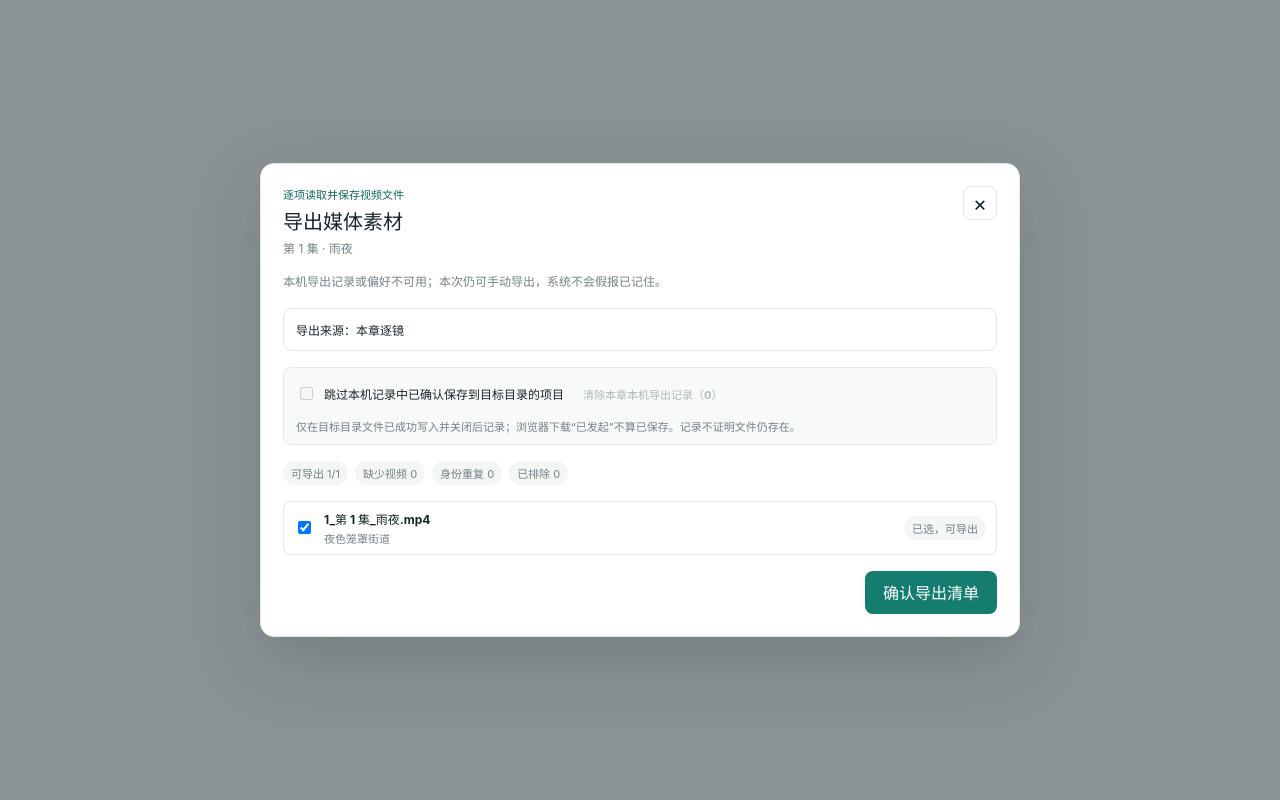
Test: MediaExportDialog local export records › keeps a real export available when local storage reads fail
This screenshot has width=1280, height=800.
Expected: the text "本机导出记录或偏好不可用；本次仍可手动导出，系统不会假报已记住。" is shown, [283,274,667,289]
Click the button "确认导出清单" at (931, 592), box [865,571,997,614]
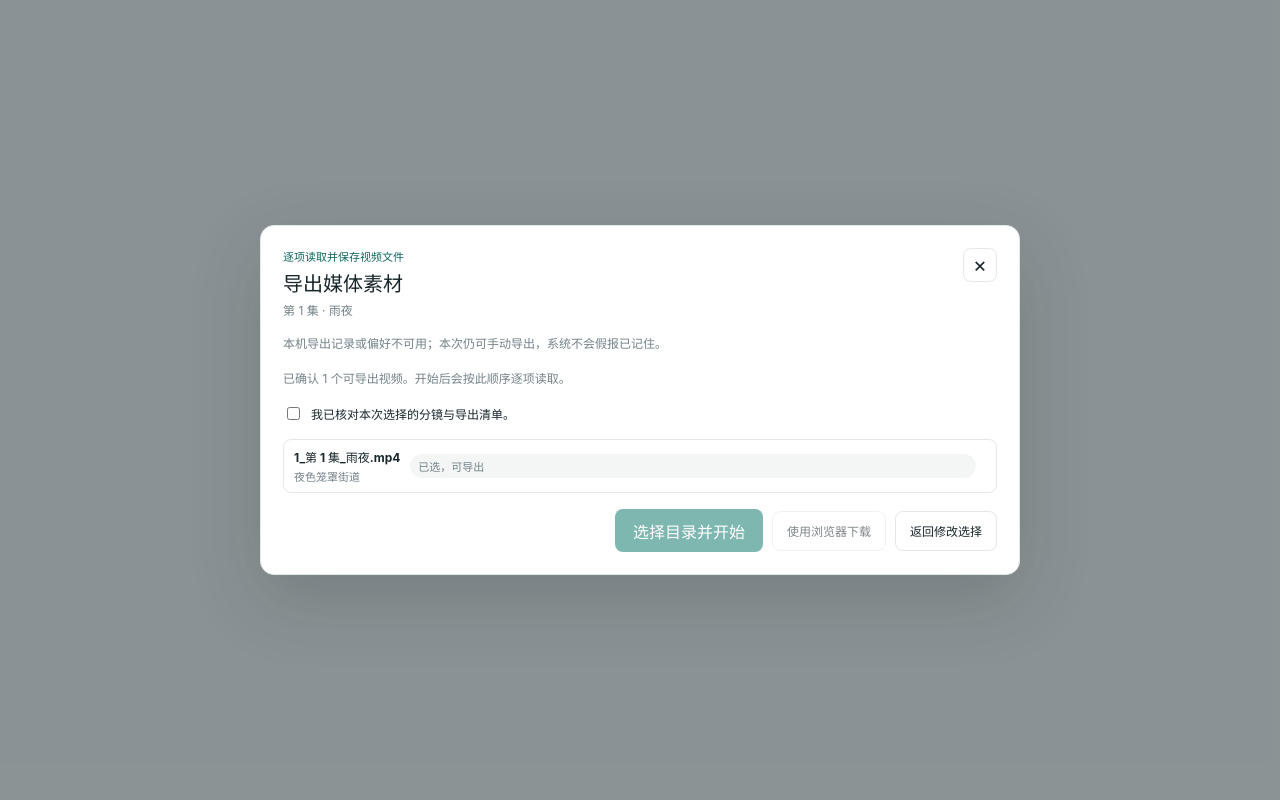
Click the checkbox labelled "我已核对本次选择的分镜与导出清单。" at (294, 414), box [287,407,300,420]
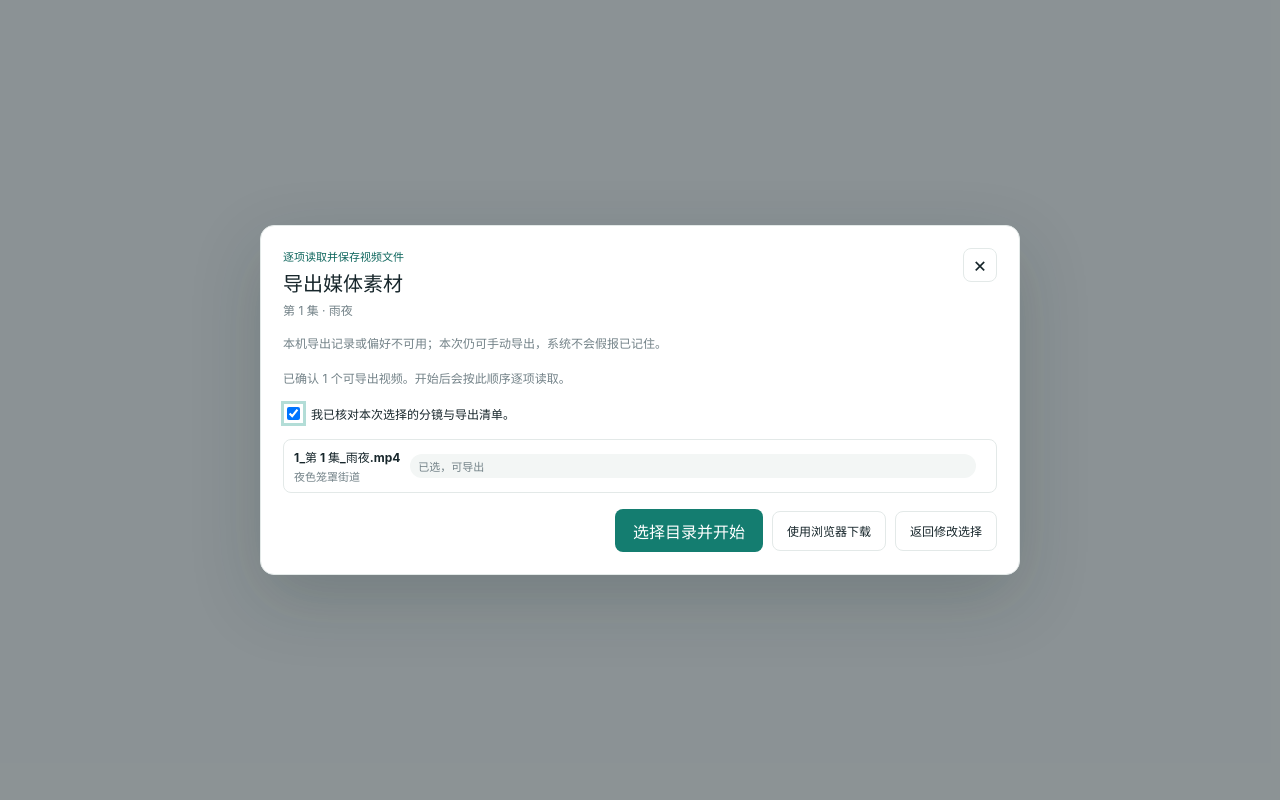
Click the button "选择目录并开始" at (689, 531), box [615,509,763,552]
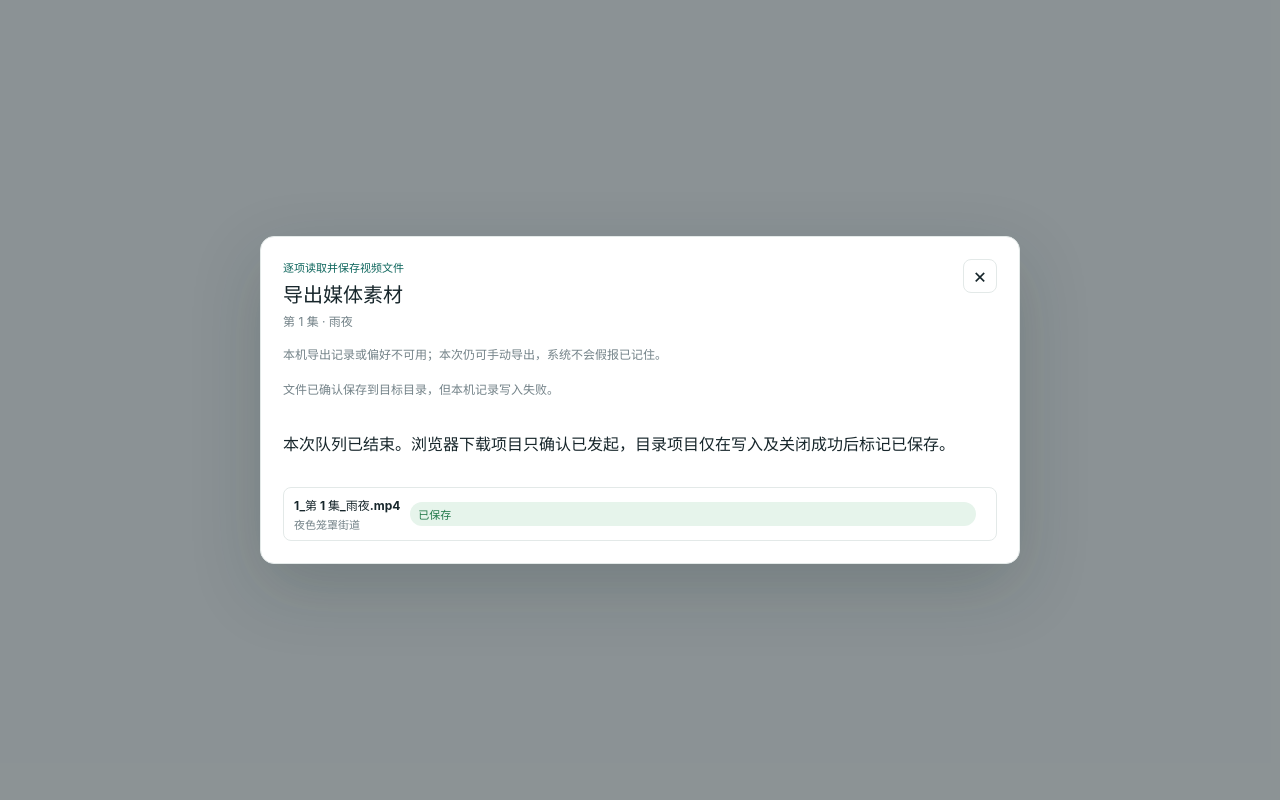
Result: the text "本次队列已结束。浏览器下载项目只确认已发起，目录项目仅在写入及关闭成功后标记已保存。" is shown at [283,431,997,455]
Result: the text "已保存" is shown at [410,502,976,526]
Result: the text "文件已确认保存到目标目录，但本机记录写入失败。" is shown at [283,382,559,397]
